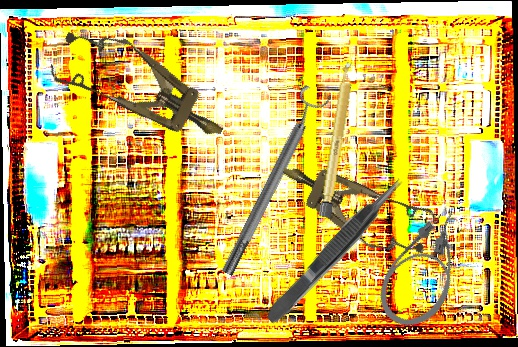Cannula: (366, 200, 487, 340)
Fixation Ring: (210, 83, 334, 281)
Scalpel Handle: (318, 60, 357, 219)
Speculum: (44, 14, 239, 164), (270, 142, 442, 269)
Tissue Forceps: (259, 172, 411, 328)
